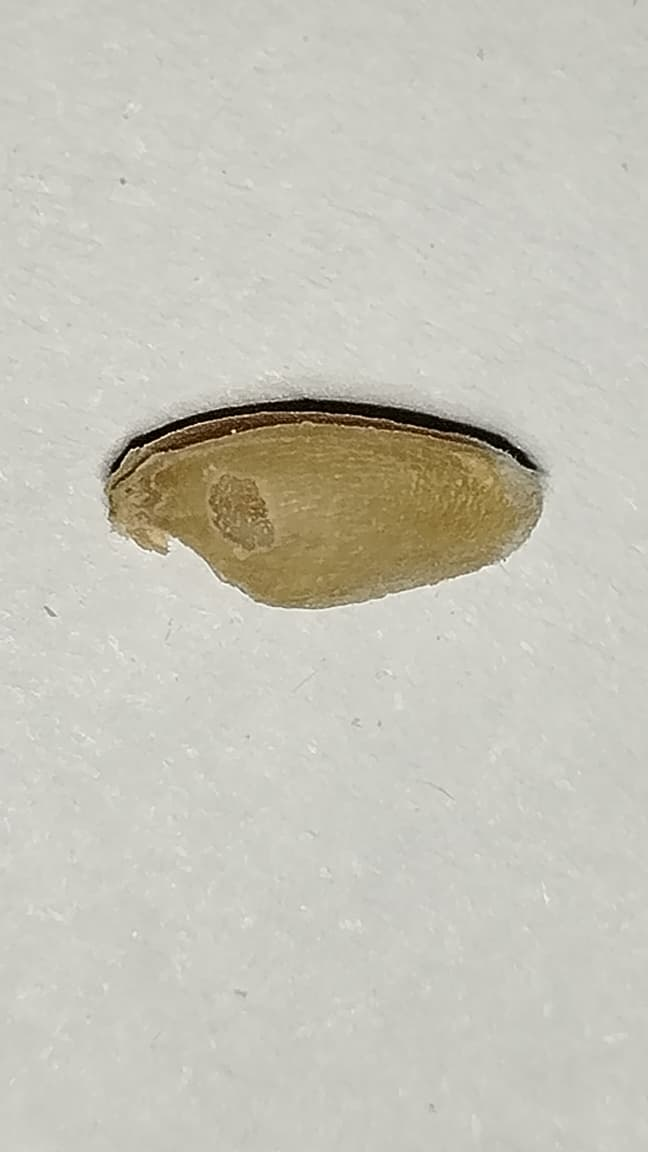damage: (103, 395, 548, 609)
insectdamage: (155, 520, 312, 630), (194, 451, 310, 576)
